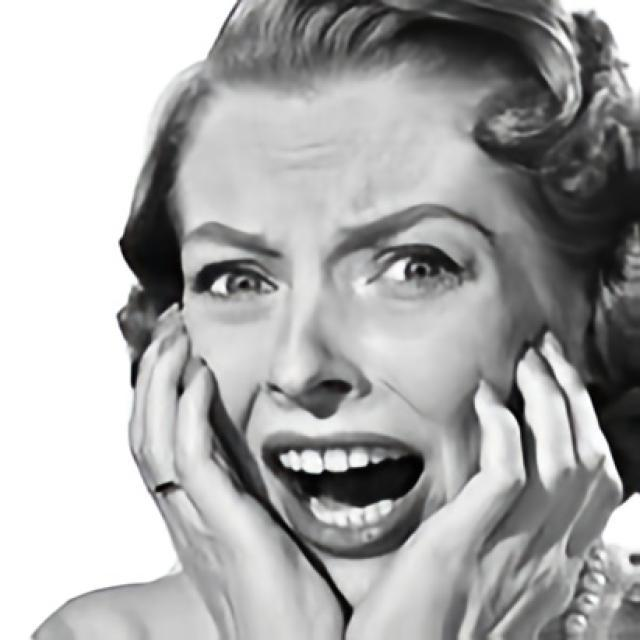fear: (172, 138, 512, 552)
